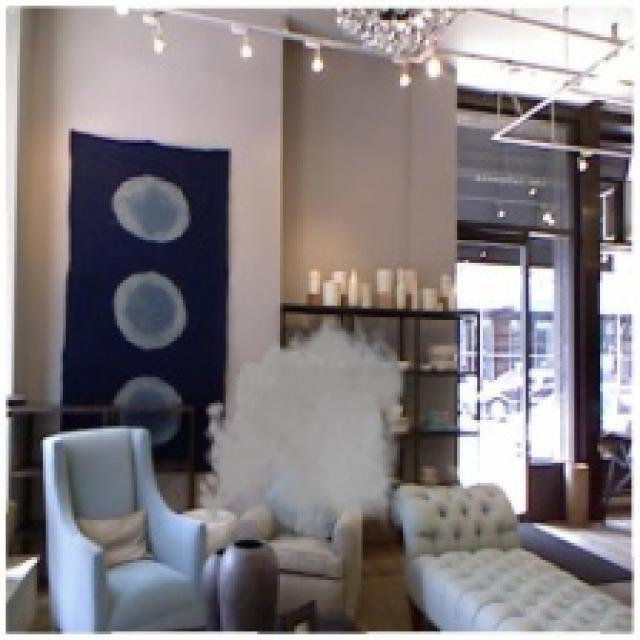Smoke: (192, 308, 414, 566)
